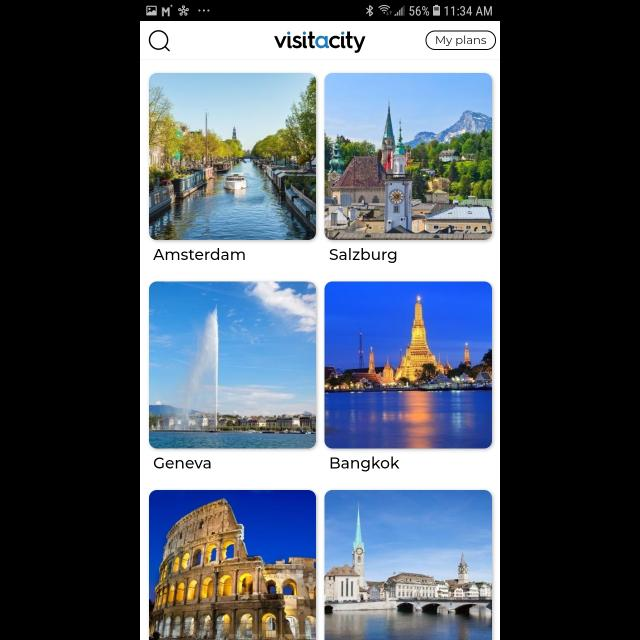icon: (149, 30, 171, 52)
image: (324, 282, 492, 448), (324, 74, 492, 240), (150, 282, 316, 448), (150, 74, 316, 240), (324, 490, 492, 640), (150, 490, 316, 640), (274, 32, 366, 54)
text: (330, 456, 400, 472), (154, 248, 246, 260), (329, 248, 396, 264), (154, 457, 212, 469)
textbutton: (426, 30, 496, 50)
uppertaskbar: (140, 1, 500, 22)
